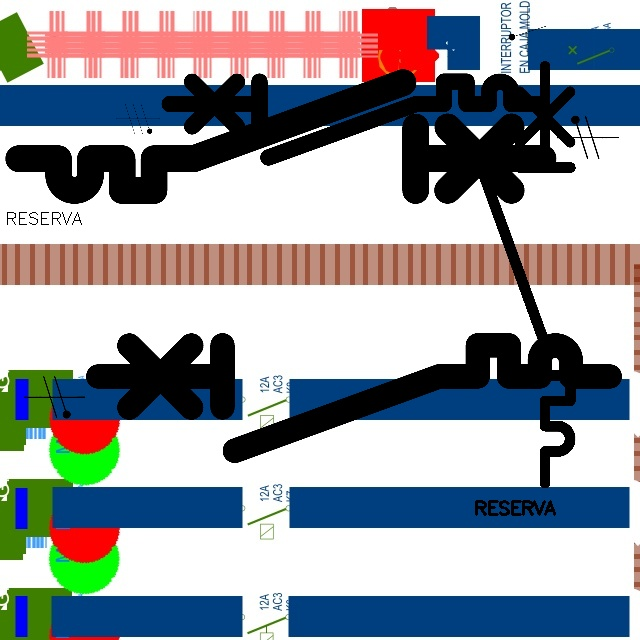interruptor_termomagnetico: (5, 69, 557, 204), (84, 332, 622, 463), (474, 55, 581, 494), (160, 72, 549, 167)
